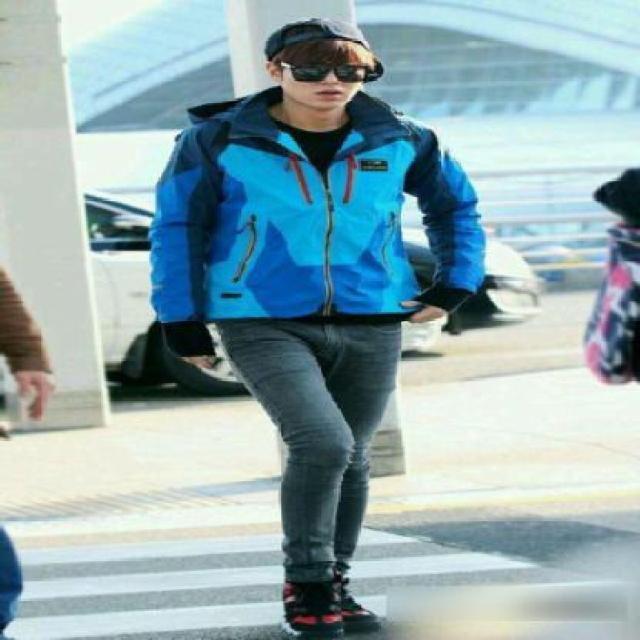Person: (118, 0, 531, 640)
